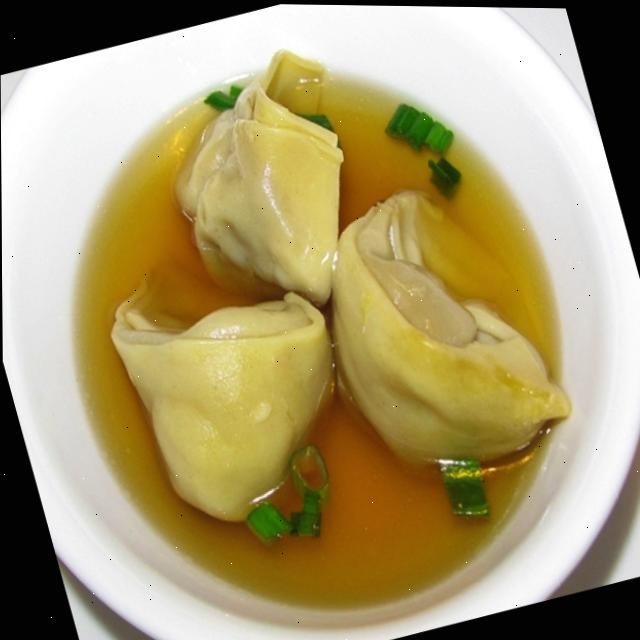汤锅炖物: (10, 1, 613, 640)
